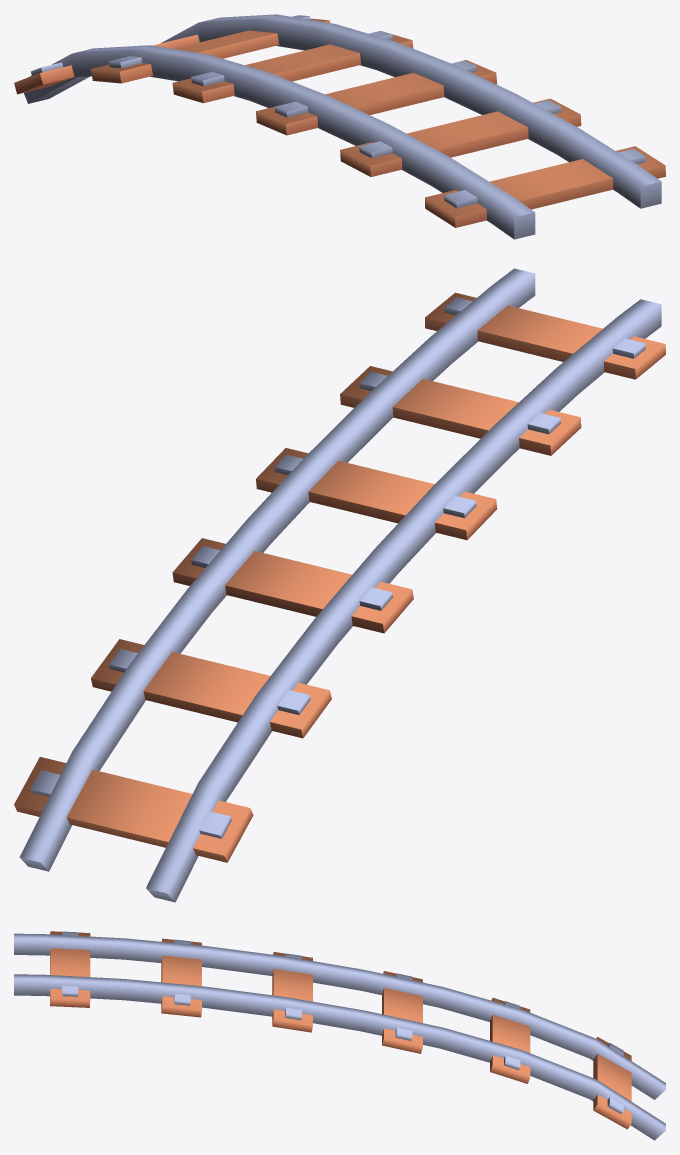
File: kenney-train-railroad-straight-hill-end.glb
The picture shows the model from 3 angles, top to bottom: view 1: azimuth 30°, elevation 25°; view 2: azimuth 150°, elevation 25°; view 3: azimuth 270°, elevation 25°; orthographic projection. The views are drawn at different scales.
Parts seen in each view (by area): view 1: railroad-straight-hill-end; view 2: railroad-straight-hill-end; view 3: railroad-straight-hill-end.
Part boxes in pixels (left/top/right/bottom): railroad-straight-hill-end: left=14, top=14, right=665, bottom=239; railroad-straight-hill-end: left=14, top=268, right=665, bottom=902; railroad-straight-hill-end: left=14, top=931, right=665, bottom=1140.
Bounding box in the file's own units: 0.9998 × 1.1 × 4.07.
1 material, 1 textured.
